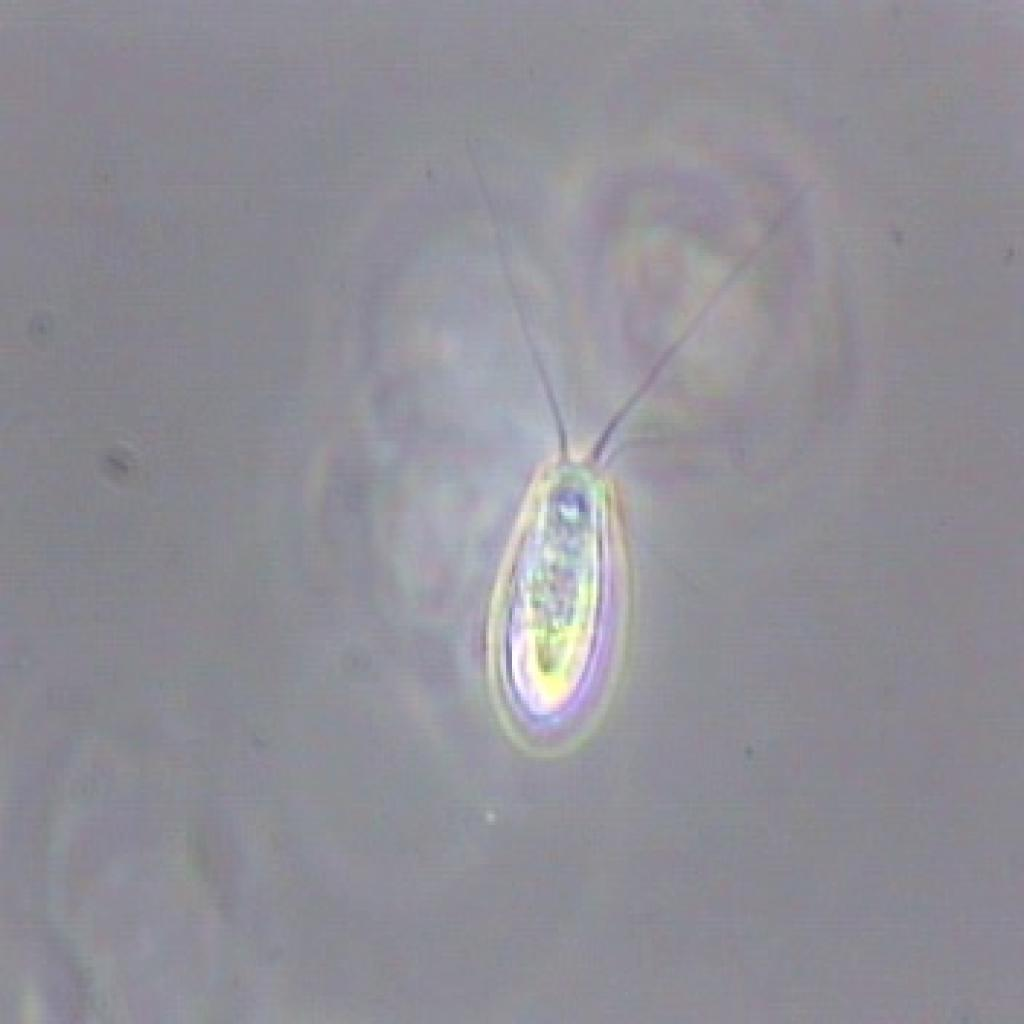Euglypha: (470, 290, 700, 784)
